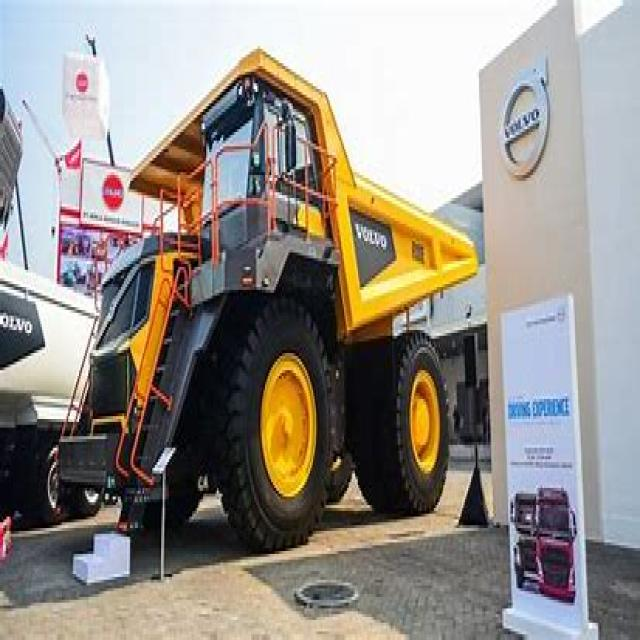dump_truck: (51, 43, 474, 540)
